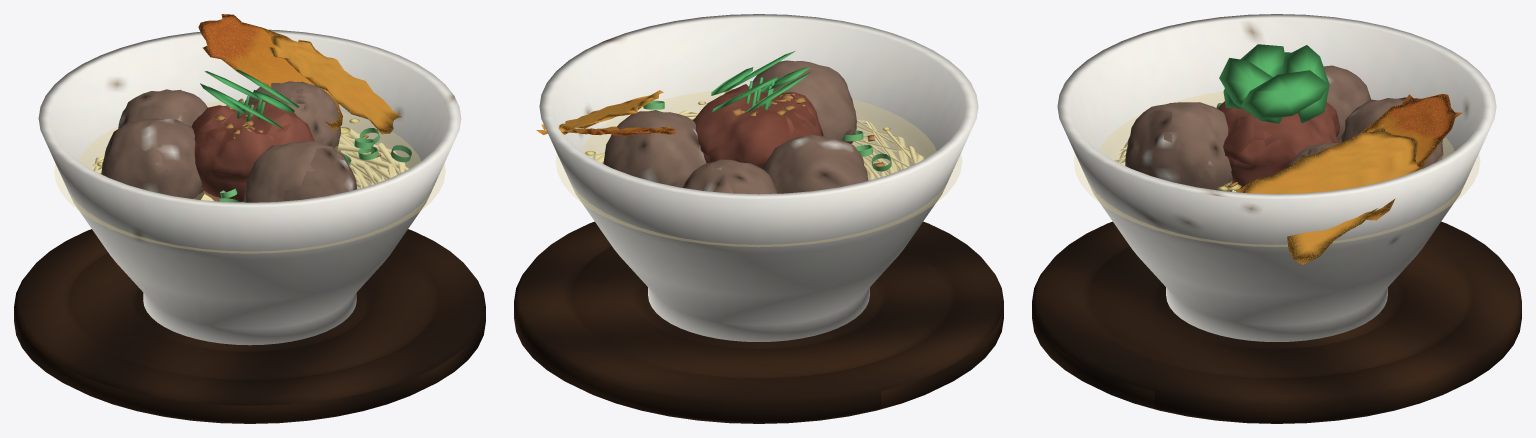
File: basoku_bowl_hero_v2.glb
3 renders of one model, left to right at view 1: azimuth 30°, elevation 25°; view 2: azimuth 150°, elevation 25°; view 3: azimuth 270°, elevation 25°, orthographic. The views are drawn at different scales.
Parts seen in each view (by area): view 1: Bowl_Ceramic, Trivet_Wood, Meatball_4, Meatball_0, Meatball_3, Soup_Broth, Pangsit_Goreng_0, Pangsit_Goreng_1, Meatball_1, Meatball_2, Noodle_Bed, Seledri_Garnish (+1 smaller); view 2: Bowl_Ceramic, Trivet_Wood, Soup_Broth, Meatball_4, Meatball_1, Meatball_0, Meatball_3, Meatball_2, Noodle_Bed, Seledri_Garnish, Pangsit_Goreng_1, Pangsit_Goreng_0 (+2 smaller); view 3: Bowl_Ceramic, Trivet_Wood, Pangsit_Goreng_1, Meatball_3, Seledri_Garnish, Meatball_4, Pangsit_Goreng_0, Soup_Broth, Meatball_0, Meatball_2.
Boxes of the visible parts, x1,y1,x2,y2 form: Bowl_Ceramic: (38,29,461,345); Trivet_Wood: (14,229,485,423); Meatball_4: (191,99,314,201); Meatball_0: (101,118,204,199); Meatball_3: (244,141,356,202); Soup_Broth: (54,101,445,253); Pangsit_Goreng_0: (198,14,347,130); Pangsit_Goreng_1: (268,35,401,134); Meatball_1: (244,81,340,150); Meatball_2: (118,89,207,128); Noodle_Bed: (92,129,408,200); Seledri_Garnish: (200,69,299,128); Bowl_Ceramic: (539,14,978,341); Trivet_Wood: (514,221,1003,423); Soup_Broth: (556,89,961,246); Meatball_4: (693,84,823,168); Meatball_1: (603,110,706,187); Meatball_0: (762,134,868,193); Meatball_3: (752,60,856,143); Meatball_2: (683,159,776,194); Noodle_Bed: (593,110,923,180); Seledri_Garnish: (711,51,809,113); Pangsit_Goreng_1: (541,90,663,132); Pangsit_Goreng_0: (536,126,675,136); Bowl_Ceramic: (1057,14,1496,341); Trivet_Wood: (1032,221,1521,423); Pangsit_Goreng_1: (1236,124,1421,264); Meatball_3: (1125,102,1232,191); Seledri_Garnish: (1219,44,1329,123); Meatball_4: (1218,101,1340,191); Pangsit_Goreng_0: (1361,93,1462,220); Soup_Broth: (1074,92,1479,246); Meatball_0: (1324,65,1370,142); Meatball_2: (1341,97,1443,168).
Size of the model in its own units: 0.212 by 0.126 by 0.212.
Materials: 11 (5 with a texture image).
